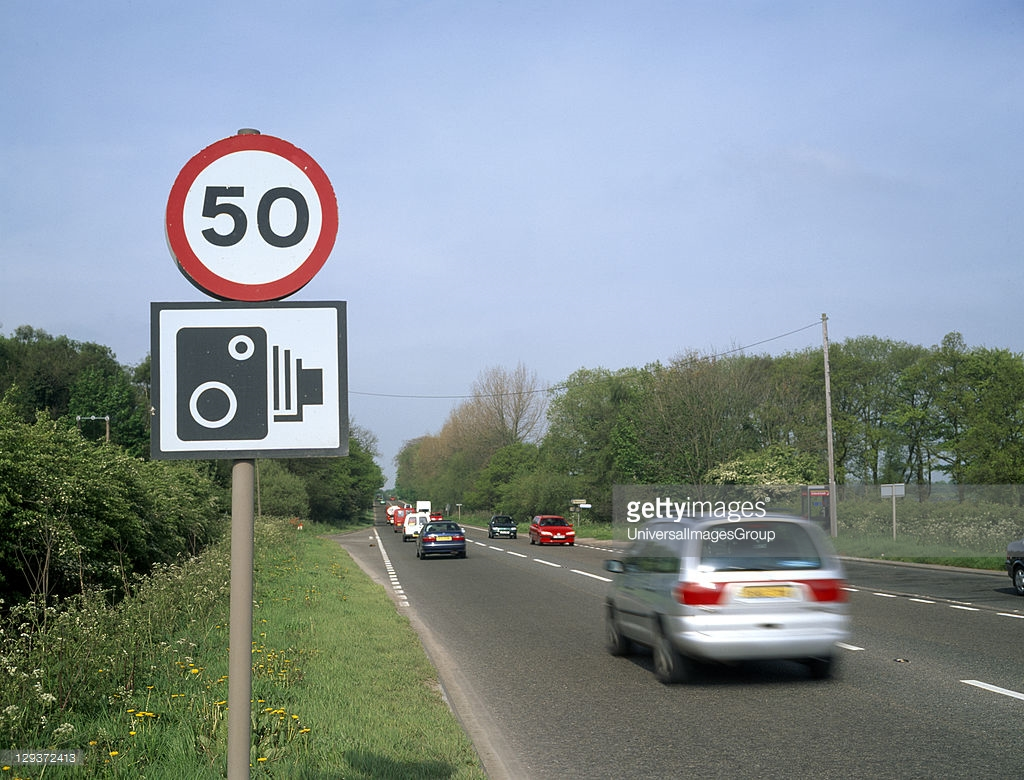Speed_limit_50km: (161, 133, 342, 295)
